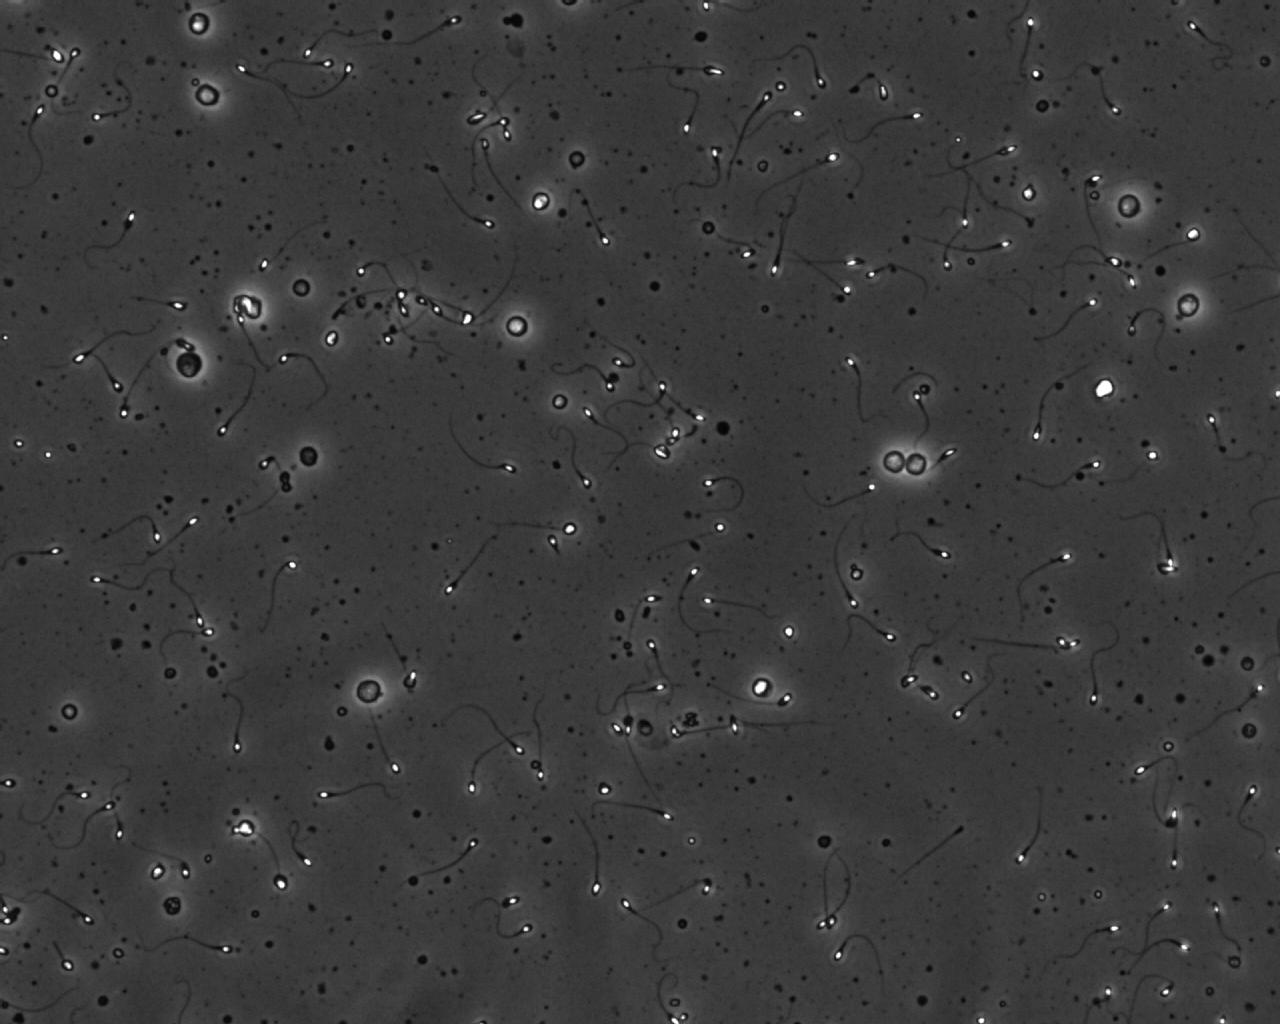cell: (170, 345, 209, 385), (1113, 189, 1145, 222), (352, 675, 385, 707), (878, 446, 909, 478), (191, 79, 223, 109), (1173, 289, 1203, 321), (502, 311, 533, 341), (1088, 374, 1119, 403), (185, 8, 214, 39), (902, 449, 932, 479), (747, 673, 778, 701), (295, 441, 322, 471), (158, 891, 186, 920), (527, 187, 554, 215), (288, 274, 315, 301), (565, 146, 589, 171), (546, 390, 572, 414), (57, 699, 82, 724), (1238, 719, 1262, 742), (40, 80, 63, 102)
